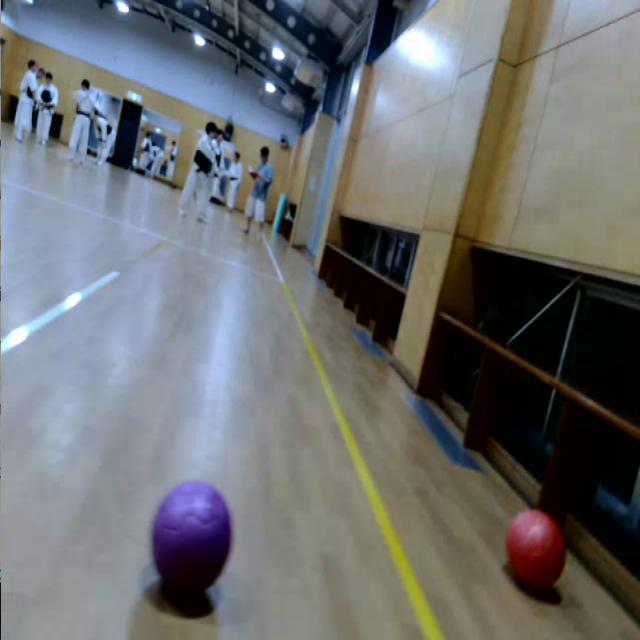purple_ball: (153, 480, 233, 592)
red_ball: (506, 510, 567, 586)
